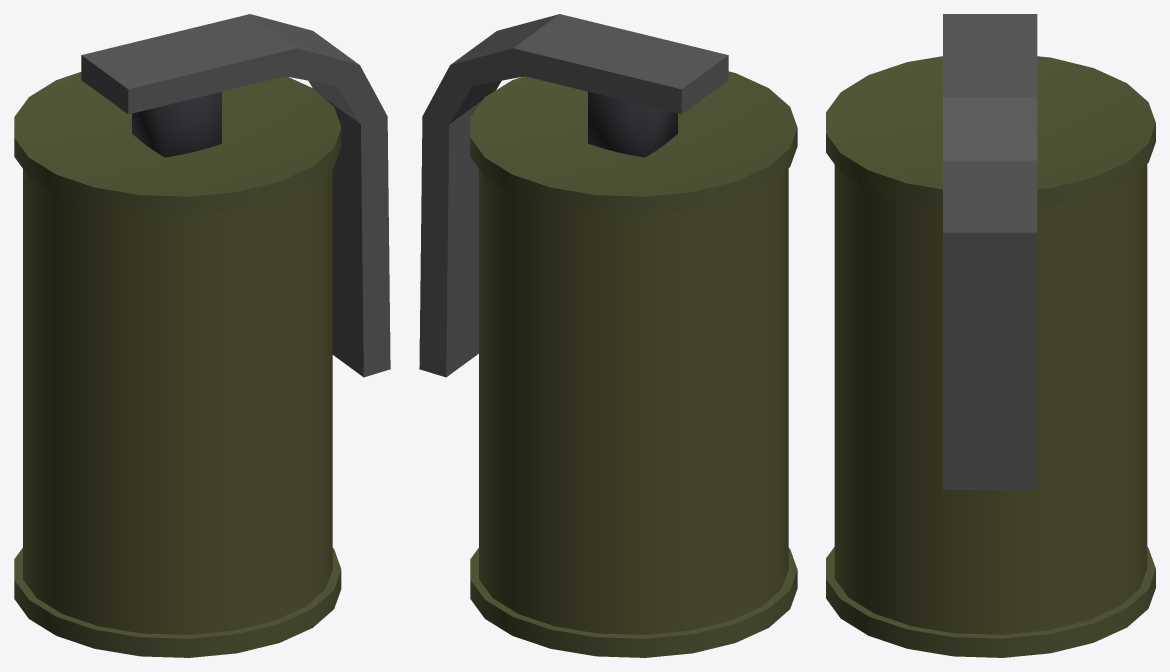
The model's file is 1182d63f-d90d-4da7-83bb-243bf36ecd7f.glb.
The picture shows the model from 3 angles, left to right: view 1: azimuth 30°, elevation 25°; view 2: azimuth 150°, elevation 25°; view 3: azimuth 270°, elevation 25°; orthographic projection.
Parts seen in each view (by area): view 1: Smoke03, Smoke02, Smoke01; view 2: Smoke03, Smoke02, Smoke01; view 3: Smoke03, Smoke02.
Boxes of the visible parts, x1=… form: Smoke03: x1=14, y1=72, x2=341, y2=657; Smoke02: x1=81, y1=14, x2=390, y2=377; Smoke01: x1=132, y1=91, x2=221, y2=157; Smoke03: x1=470, y1=71, x2=797, y2=657; Smoke02: x1=419, y1=14, x2=728, y2=377; Smoke01: x1=588, y1=91, x2=677, y2=157; Smoke03: x1=826, y1=56, x2=1155, y2=657; Smoke02: x1=943, y1=14, x2=1037, y2=489.
Size of what is drawn, in the model's own units: 0.098 by 0.1505 by 0.0835.
1 material, 1 textured.
